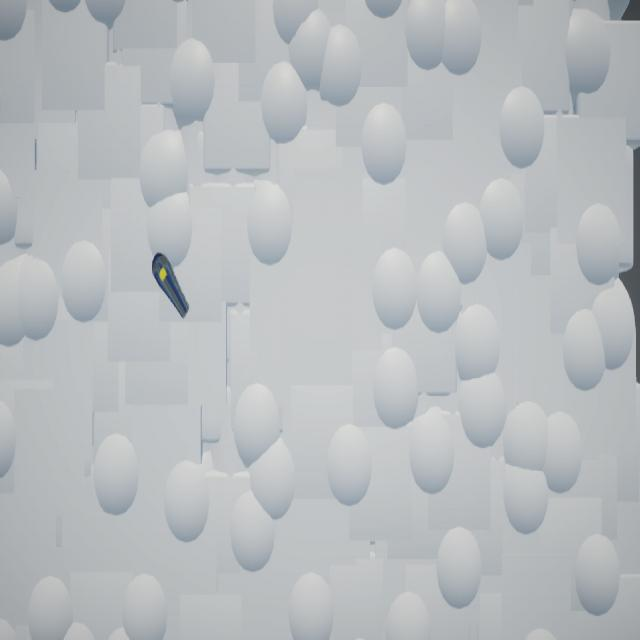handle_knife: (153, 253, 191, 320)
